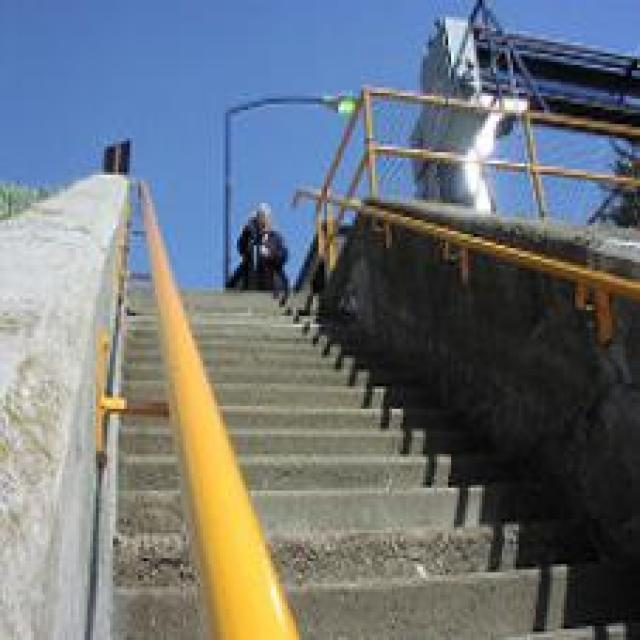stair: (124, 268, 524, 615)
